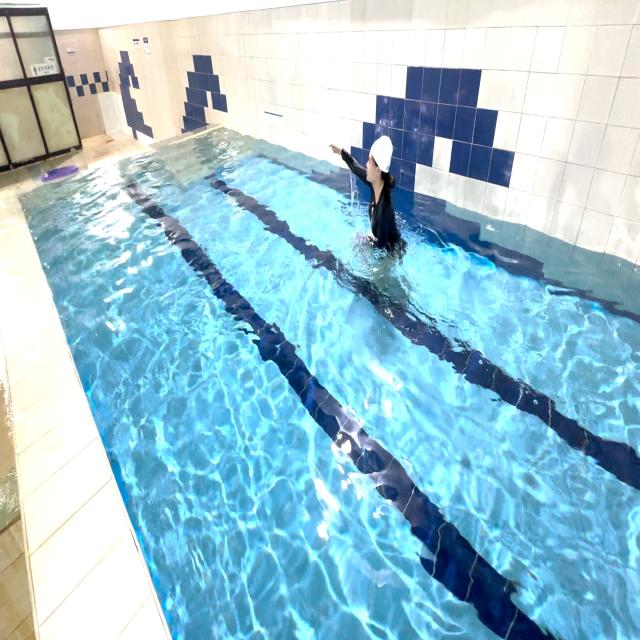Swimming: (316, 107, 428, 323)
